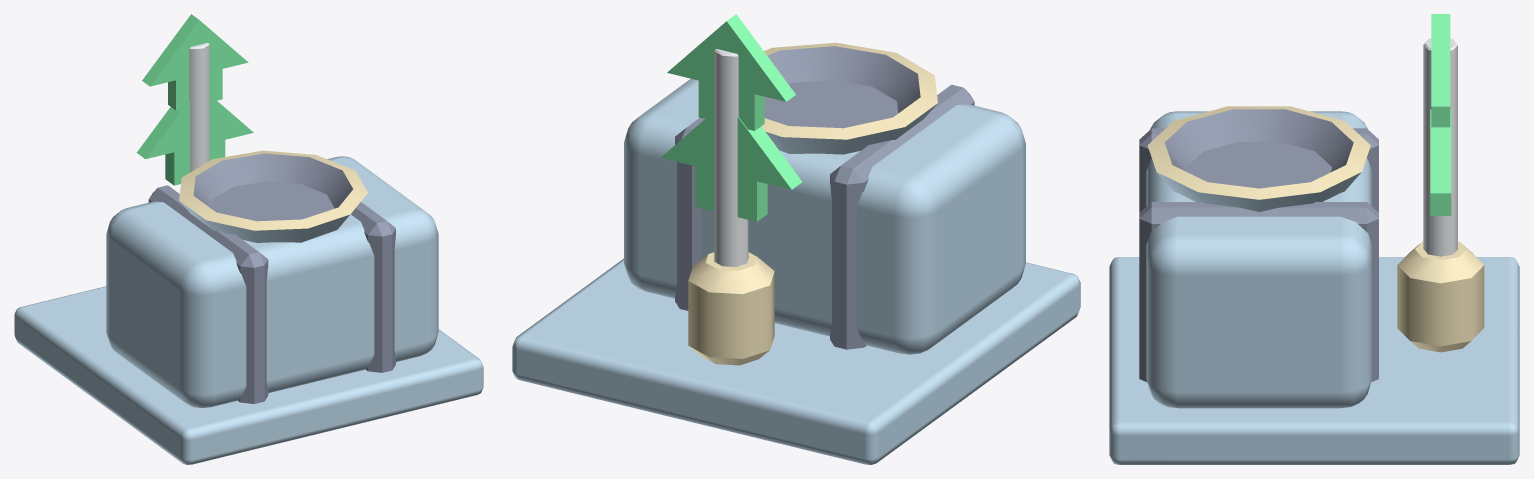
File: R4X_CargoUplink.glb
3 renders of one model, left to right at view 1: azimuth 30°, elevation 25°; view 2: azimuth 150°, elevation 25°; view 3: azimuth 270°, elevation 25°, orthographic. The views are drawn at different scales.
Parts seen in each view (by area): view 1: R4X_CargoUplink_Body; view 2: R4X_CargoUplink_Body; view 3: R4X_CargoUplink_Body.
Part boxes in pixels (x1=…): R4X_CargoUplink_Body: x1=14, y1=14, x2=483, y2=464; R4X_CargoUplink_Body: x1=512, y1=14, x2=1080, y2=464; R4X_CargoUplink_Body: x1=1109, y1=14, x2=1519, y2=464.
Size of the model in its own units: 0.52 by 0.515 by 0.52.
